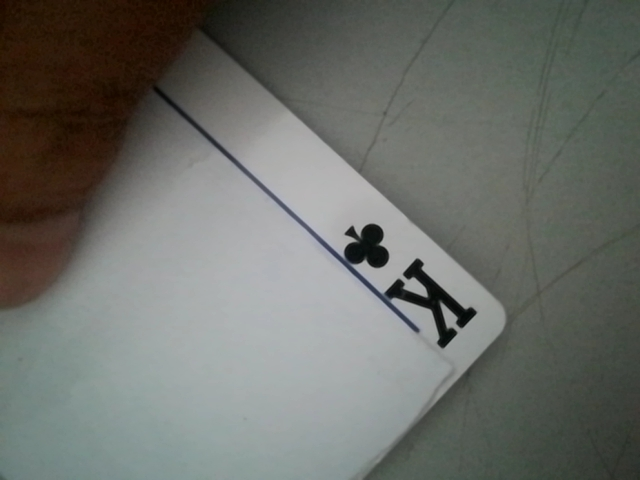mh k: (329, 206, 487, 361)
